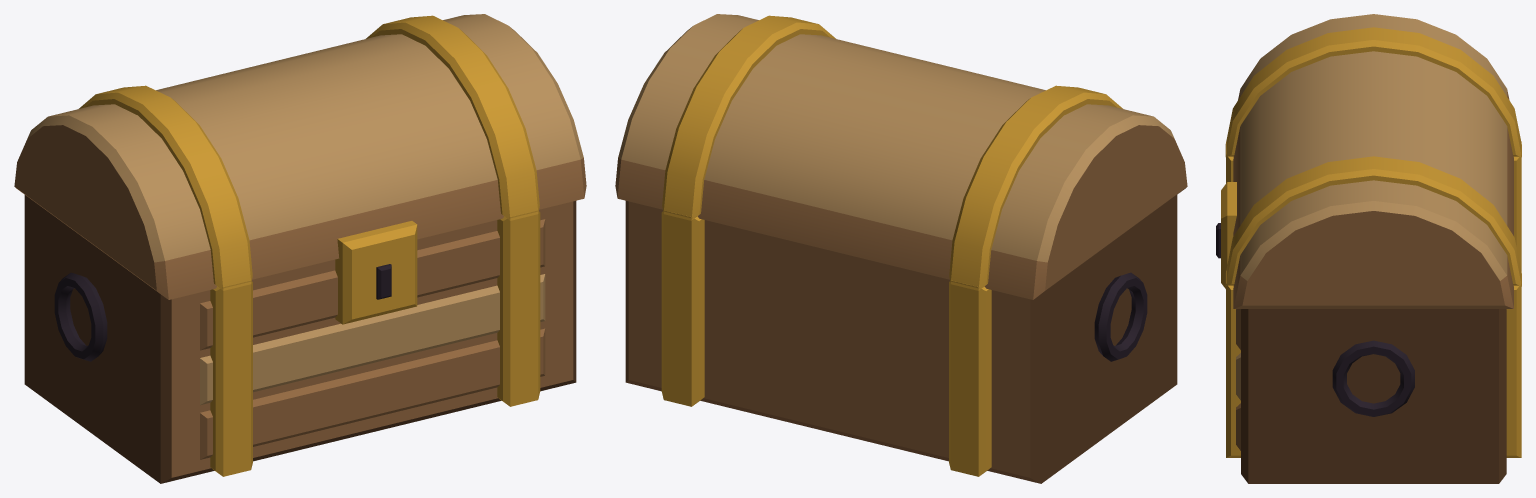
File: Chest_12.glb
The picture shows the model from 3 angles, left to right: view 1: azimuth 30°, elevation 25°; view 2: azimuth 150°, elevation 25°; view 3: azimuth 270°, elevation 25°; orthographic projection. The views are drawn at different scales.
Visible parts, largest first — view 1: Chest_12; view 2: Chest_12; view 3: Chest_12.
Part boxes in pixels (x1,y1,x2,y2): Chest_12: (14, 14, 586, 483); Chest_12: (615, 14, 1187, 483); Chest_12: (1216, 14, 1521, 483).
Size of the model in its own units: 3.86 by 2.59 by 2.46.
